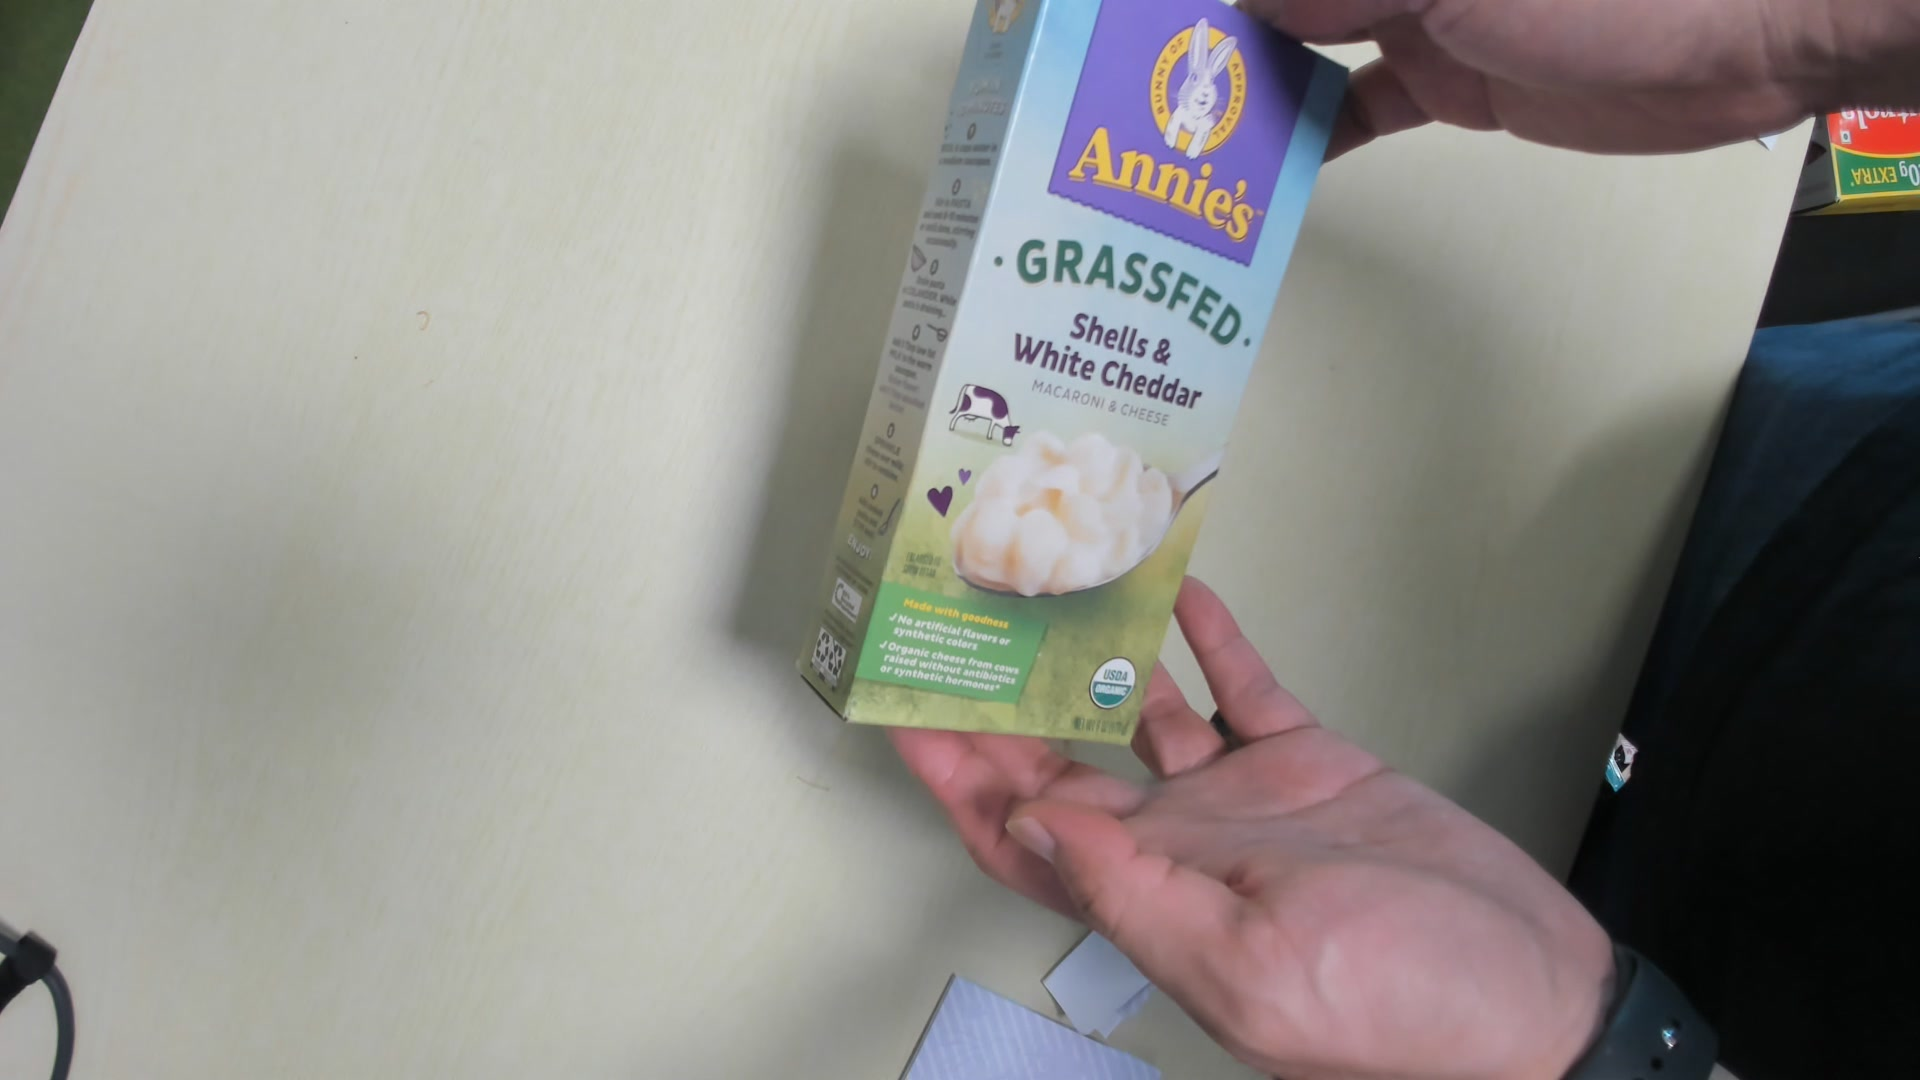InstantMeals_100_199g_NonHalal_NonHealthy: (796, 7, 1349, 754)
